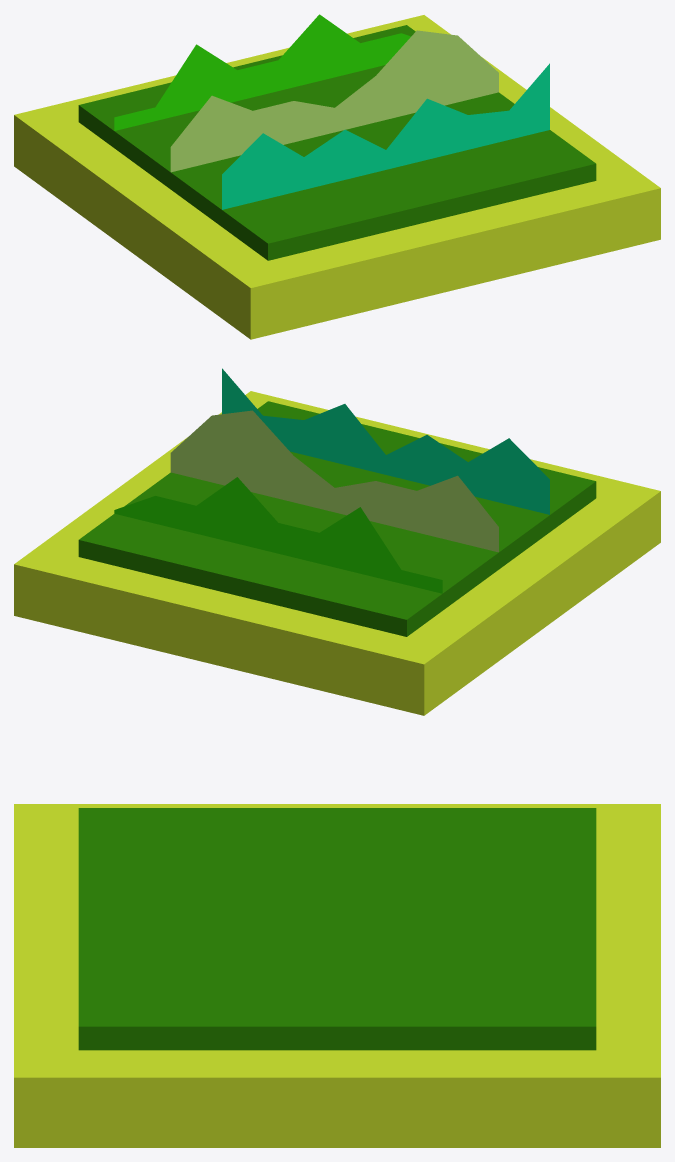
Rendered from green.glb.
3 renders of one model, top to bottom at view 1: azimuth 30°, elevation 25°; view 2: azimuth 150°, elevation 25°; view 3: azimuth 270°, elevation 25°, orthographic. The views are drawn at different scales.
Parts seen in each view (by area): view 1: Plane.002; view 2: Plane.002; view 3: Plane.002.
Boxes of the visible parts, left/top/right/bottom form: Plane.002: left=14, top=14, right=660, bottom=339; Plane.002: left=14, top=368, right=660, bottom=715; Plane.002: left=14, top=804, right=660, bottom=1147.
Bounding box in the file's own units: 2.5 × 0.8775 × 2.5.
